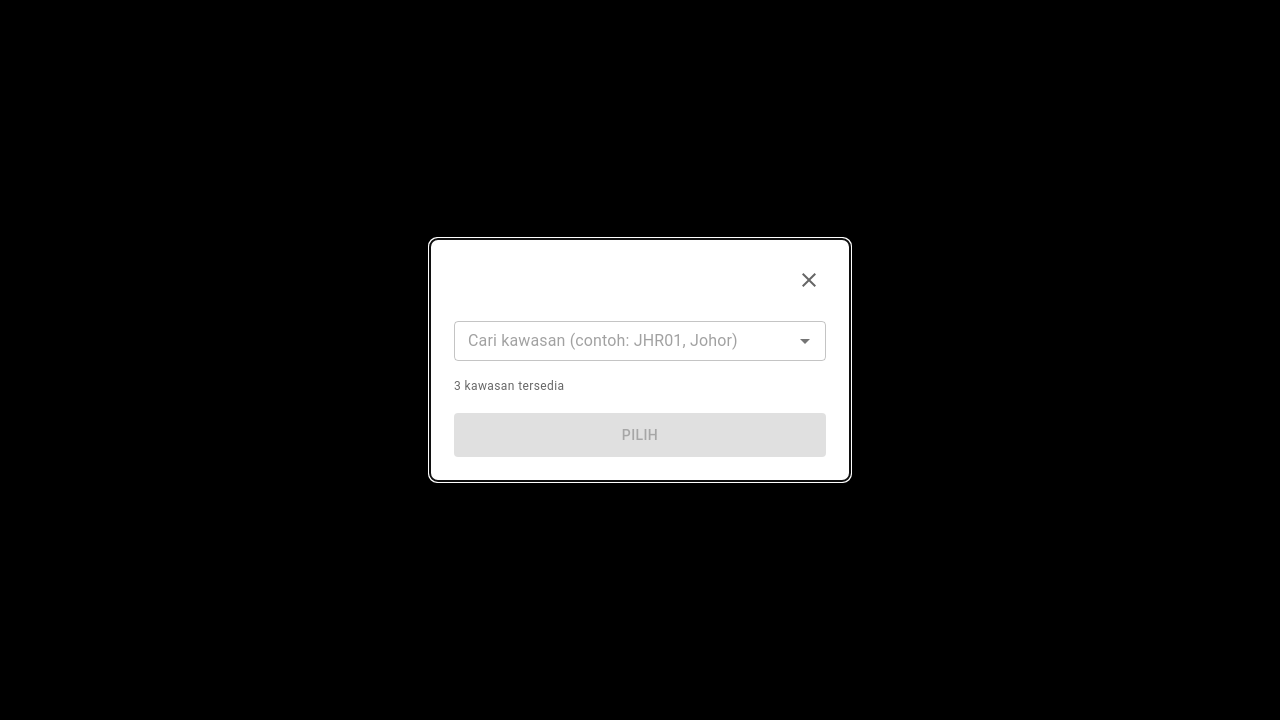
Test: ZoneModal Component › Zone Loading › should fetch and display all zones from API
Click to open dropdown
Click the dropdown at (624, 341), box [460, 327, 787, 355]
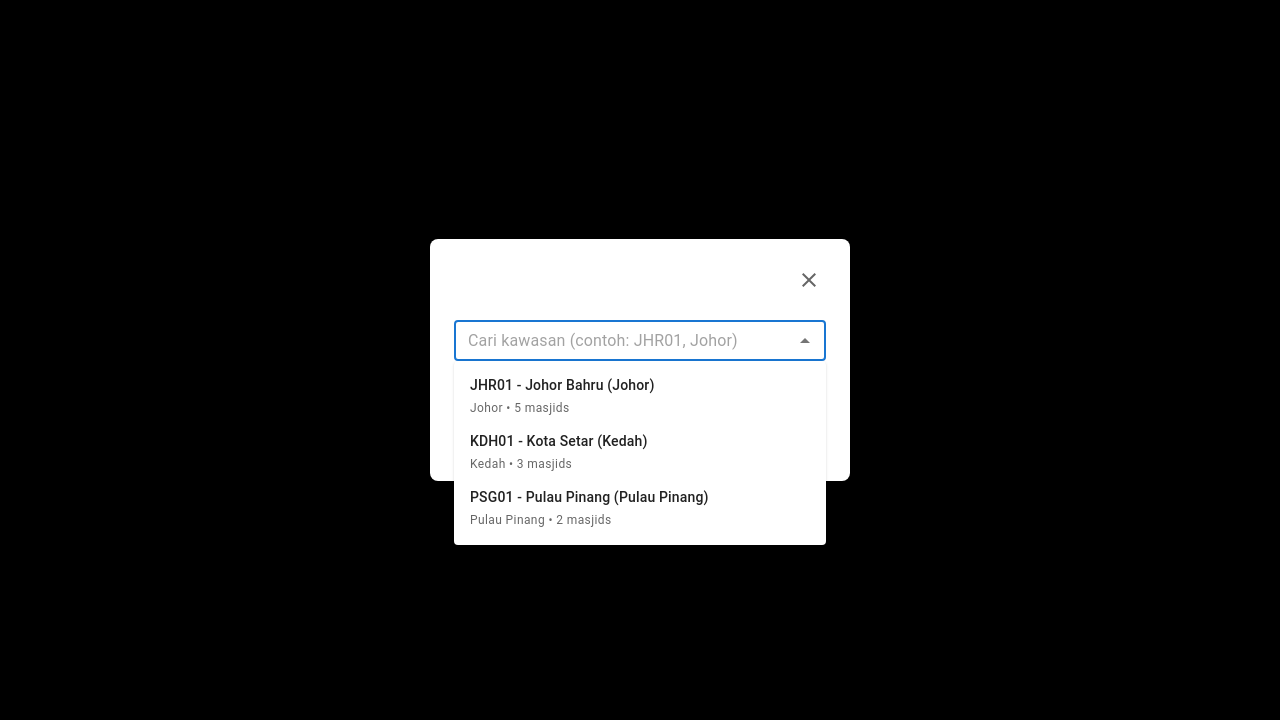
Check: the text "JHR01 - Johor Bahru (Johor)" is shown, box [470, 375, 654, 395]
Check: the text "KDH01 - Kota Setar (Kedah)" is shown, box [470, 431, 648, 451]
